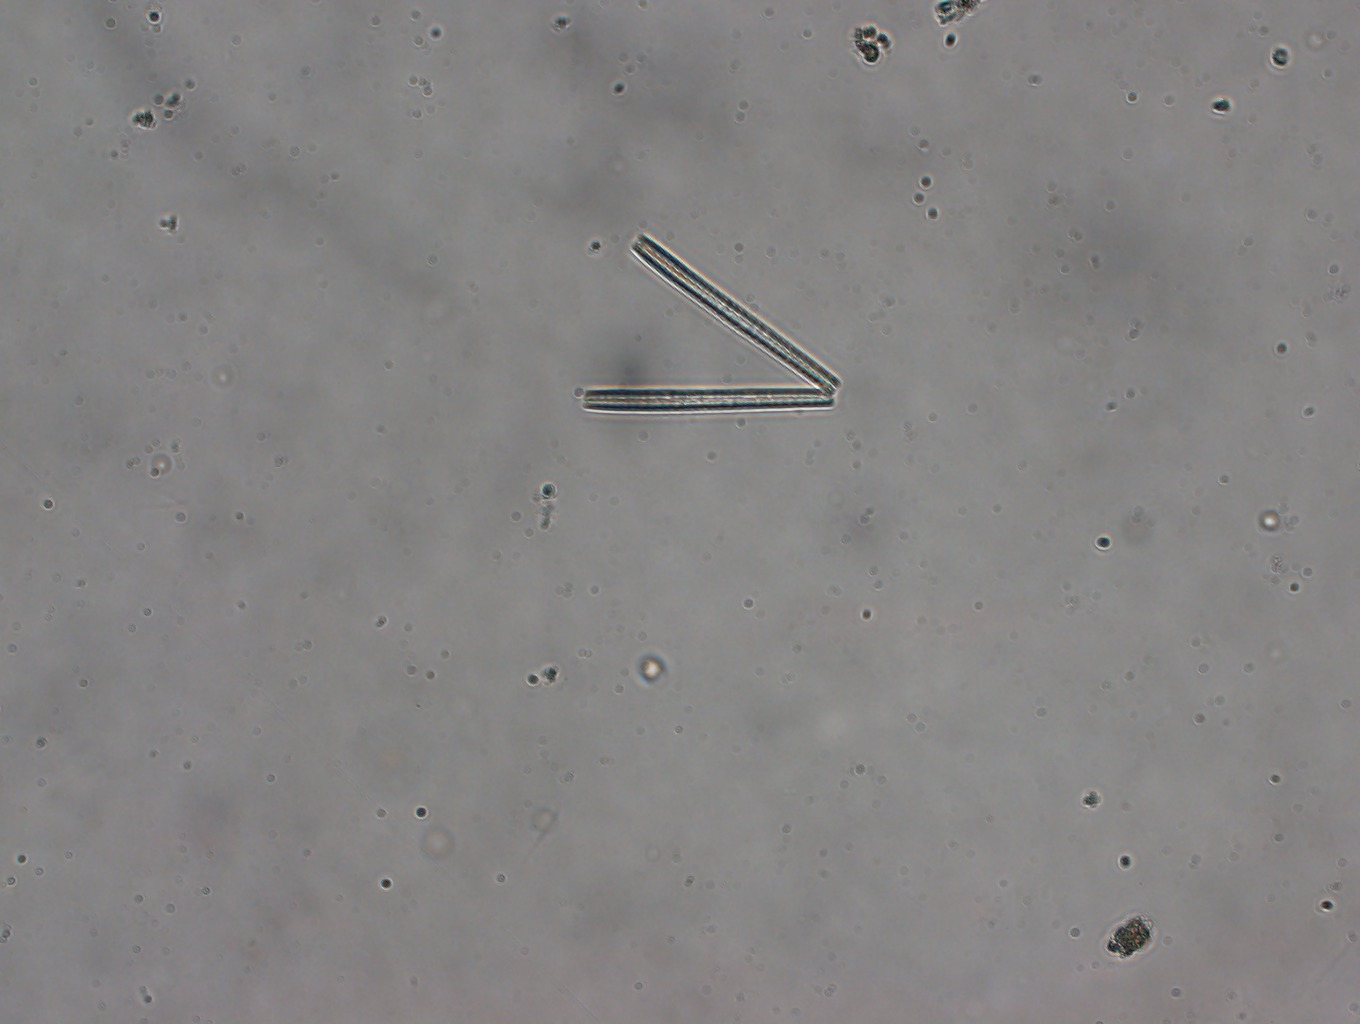thalassionema frauenfeldii: (578, 233, 844, 412)
